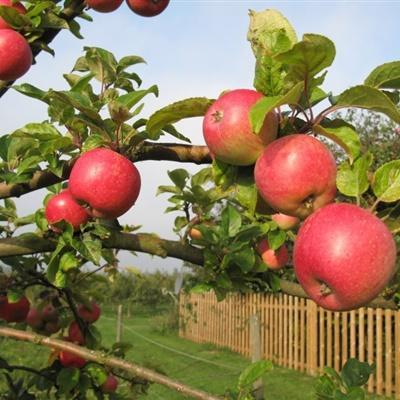apple: (289, 200, 396, 311), (253, 131, 339, 225), (201, 88, 274, 170), (68, 147, 140, 220)
